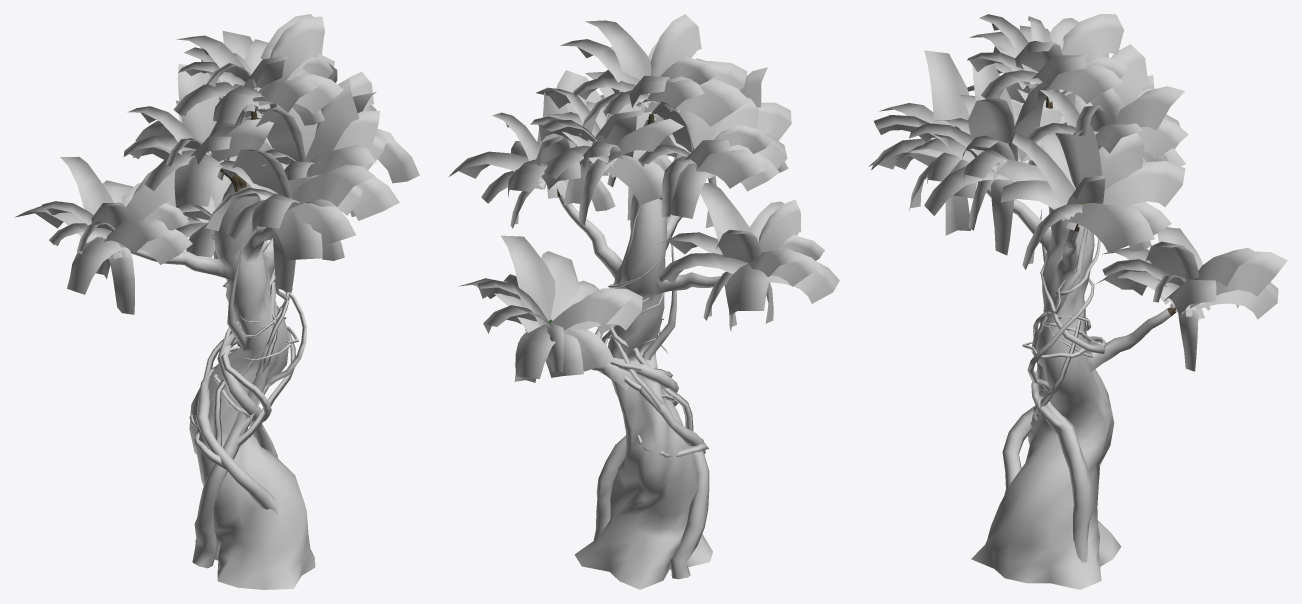
File: Plant6_2_L1.fbx
3 views of the same model, side by side, from view 1: azimuth 30°, elevation 25°; view 2: azimuth 150°, elevation 25°; view 3: azimuth 270°, elevation 25° (orthographic). The views are drawn at different scales.
Parts seen in each view (by area): view 1: polySurface2191; view 2: polySurface2191; view 3: polySurface2191.
Part boxes in pixels (x1=…): polySurface2191: x1=15, y1=14, x2=419, y2=589; polySurface2191: x1=449, y1=14, x2=839, y2=589; polySurface2191: x1=869, y1=14, x2=1287, y2=589.
Size of the model in its own units: 634 by 928 by 649.
